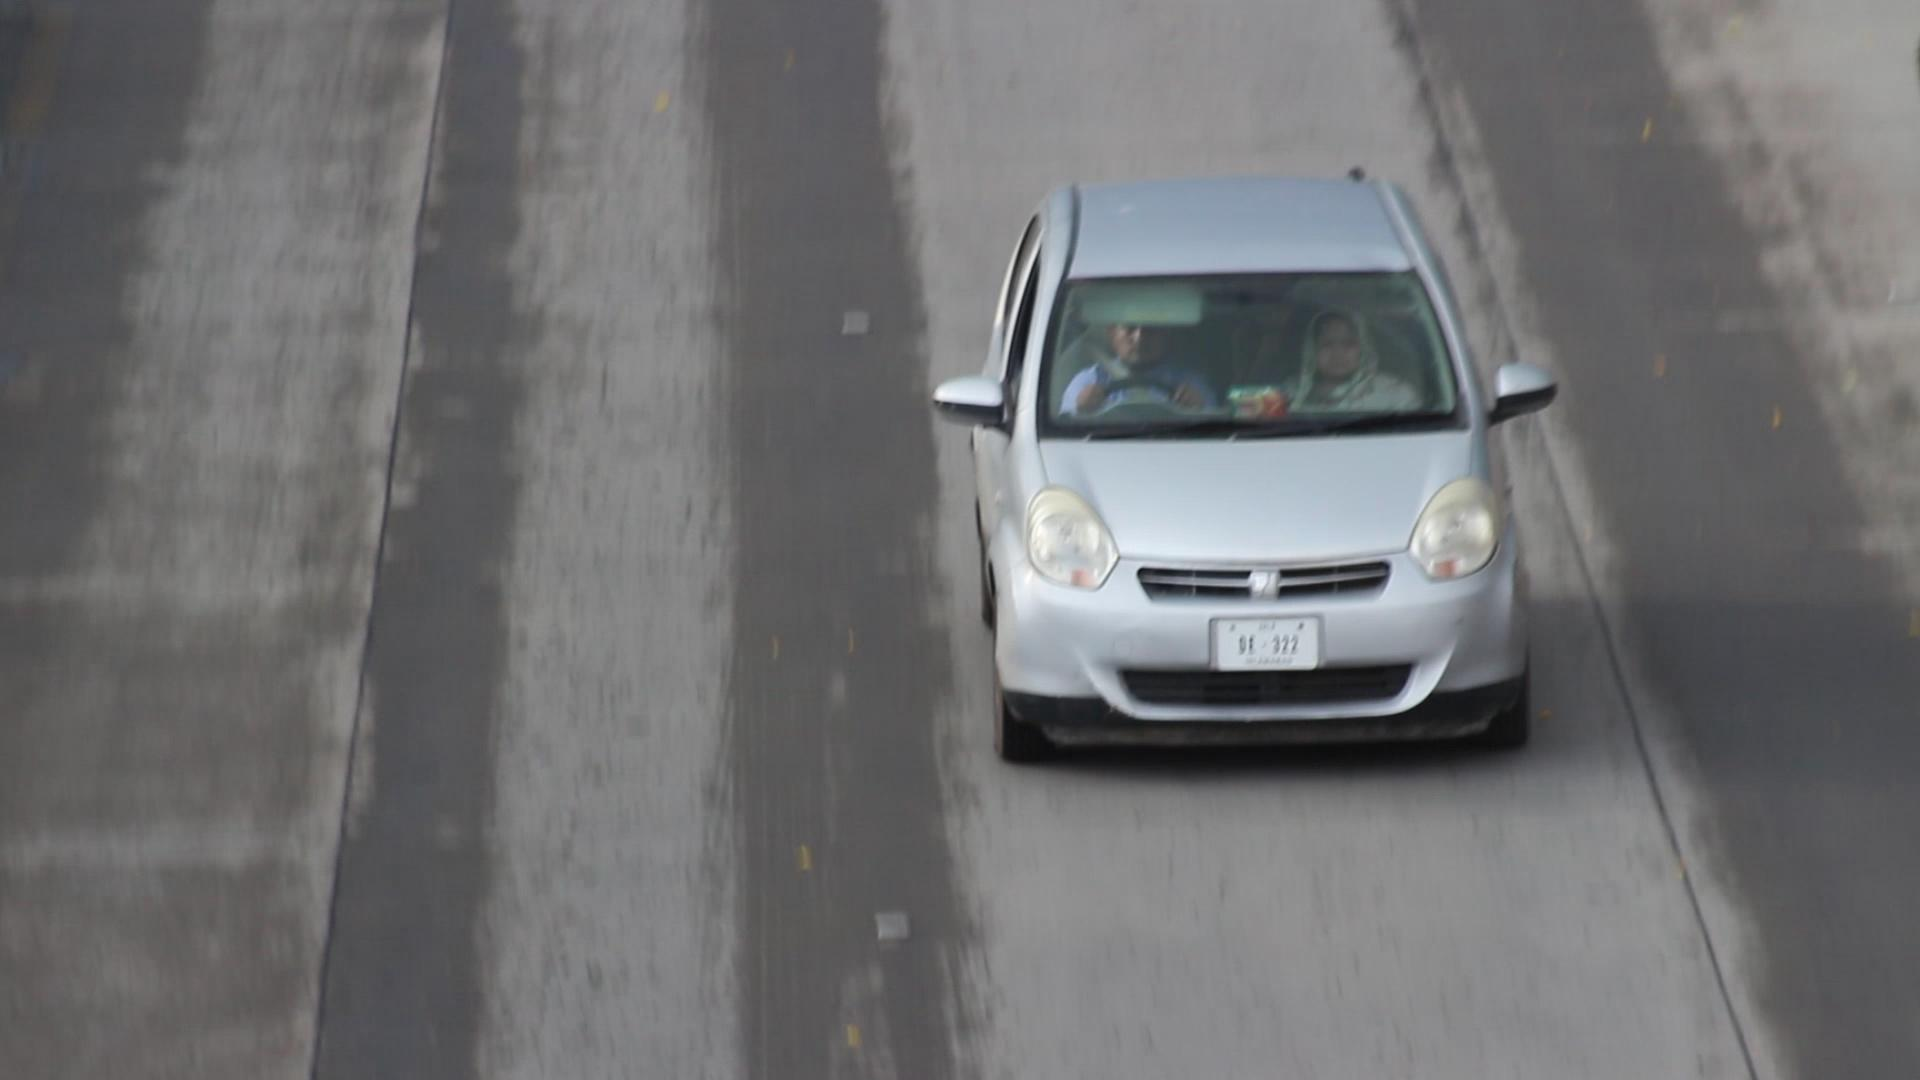windshield: (1027, 257, 1494, 443)
